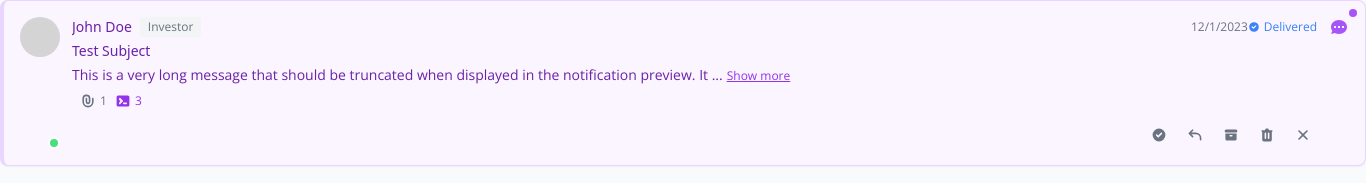
it: MessageNotification › handles message truncation and expansion
Expected: the text "This is a very long message that should be truncated" is shown, [72,65,723,84]
Note: Click to expand
Step 1. Click the button "Show more" → (758, 76), box [727,68,790,84]
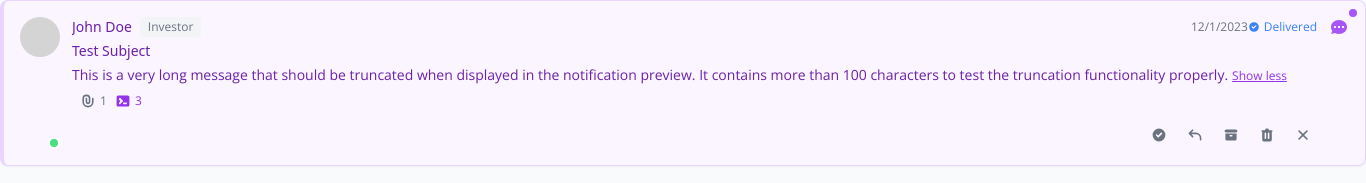
Result: the text "This is a very long message that should be truncated when displayed in the notification preview. It contains more than 1" is shown at [72,65,1228,84]
Result: the button "Show less" is shown
Note: Click to collapse
Step 2. Click the button "Show less" → (1260, 76), box [1232,68,1287,84]
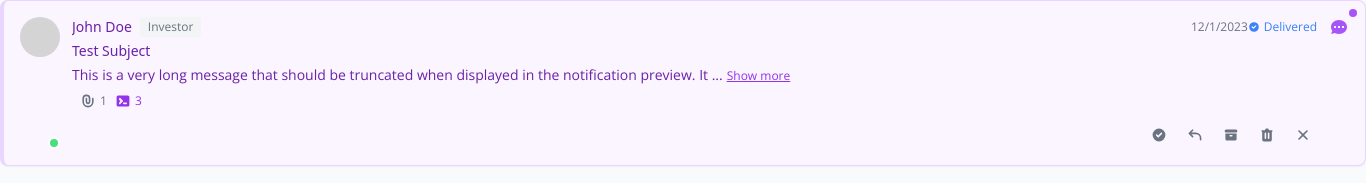
Expected: the text "This is a very long message that should be truncated" is shown, [72,65,723,84]
Result: the button "Show more" is shown at [727,68,790,84]
